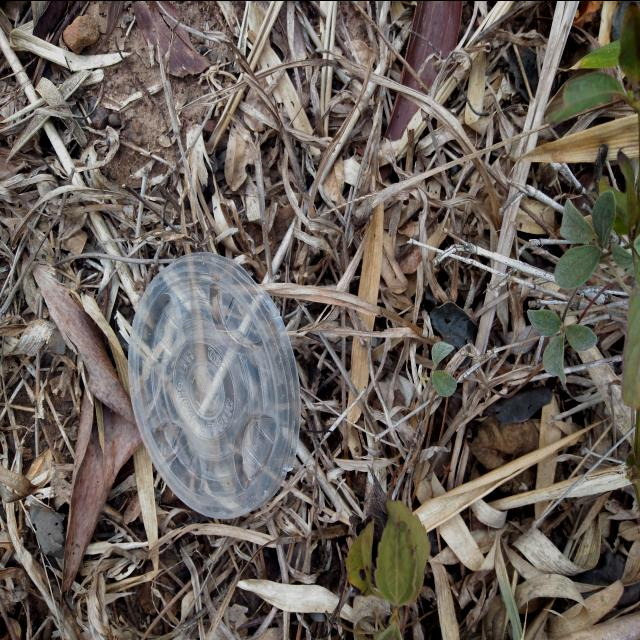Plastic lid: (128, 250, 301, 518)
